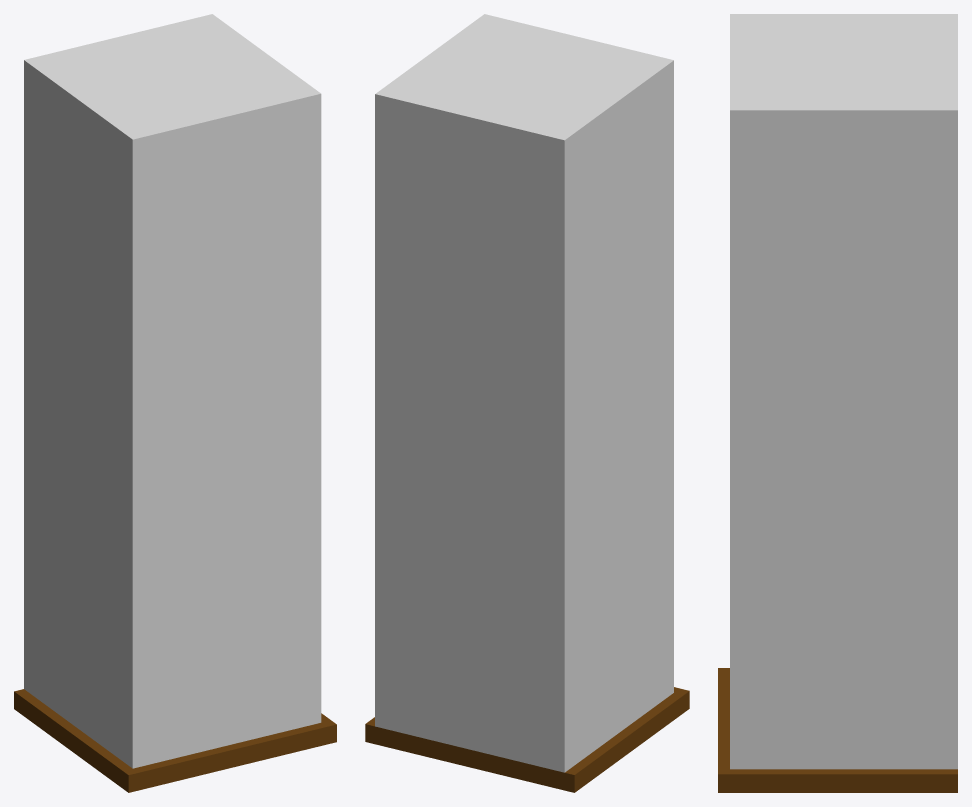
The model's file is BgMD_pillar.fbx.
The picture shows the model from 3 angles, left to right: view 1: azimuth 30°, elevation 25°; view 2: azimuth 150°, elevation 25°; view 3: azimuth 270°, elevation 25°; orthographic projection. The views are drawn at different scales.
Parts seen in each view (by area): view 1: pCube2; view 2: pCube2; view 3: pCube2.
Part boxes in pixels (x1=…): pCube2: x1=14, y1=14, x2=336, y2=792; pCube2: x1=365, y1=14, x2=689, y2=792; pCube2: x1=718, y1=14, x2=957, y2=792.
Size of the model in its own units: 82.84 by 246 by 78.92.
